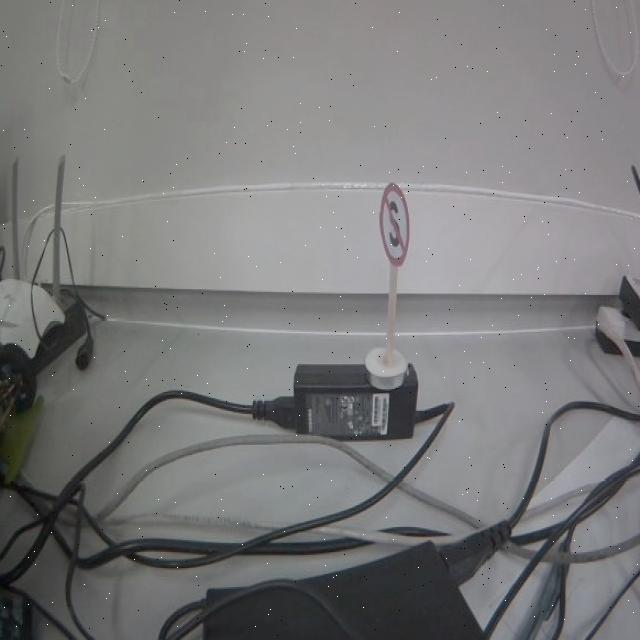Rambu Berhenti: (380, 182, 410, 264)
